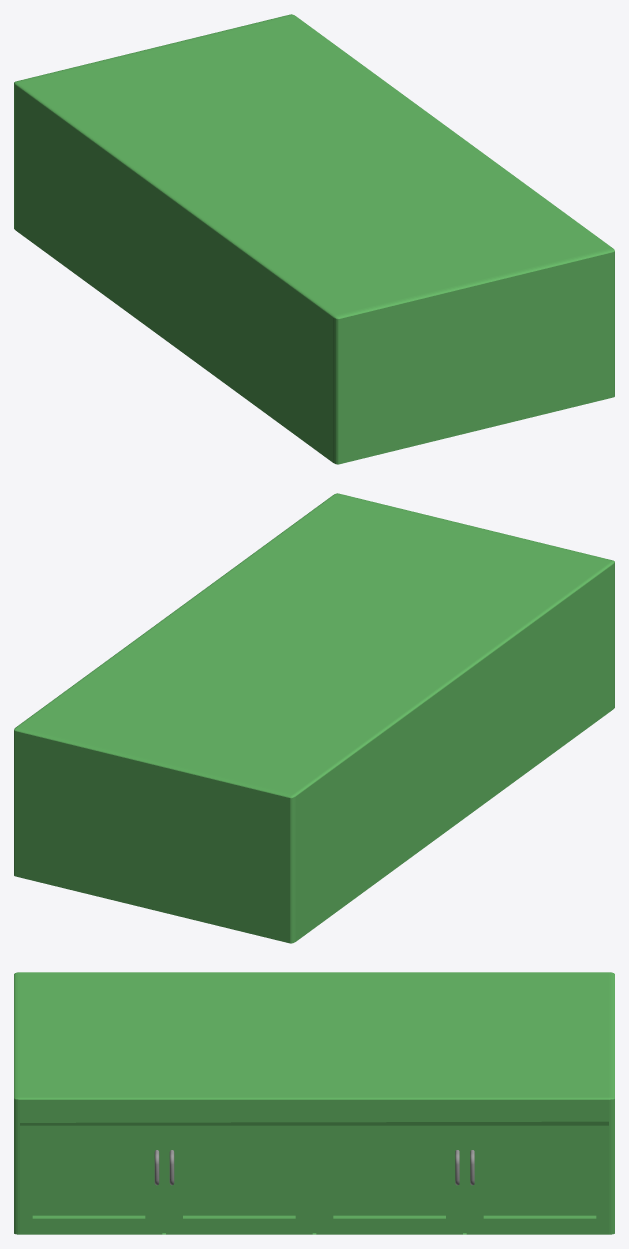
Rendered from IngredientShelf.glb.
The picture shows the model from 3 angles, top to bottom: view 1: azimuth 30°, elevation 25°; view 2: azimuth 150°, elevation 25°; view 3: azimuth 270°, elevation 25°; orthographic projection. The views are drawn at different scales.
Visible parts, largest first — view 1: IngredientShelf; view 2: IngredientShelf; view 3: IngredientShelf.
Part boxes in pixels (x1=…): IngredientShelf: x1=14, y1=14, x2=614, y2=464; IngredientShelf: x1=14, y1=493, x2=614, y2=943; IngredientShelf: x1=14, y1=972, x2=614, y2=1234.
Size of the model in its own units: 4.22 by 2 by 8.
